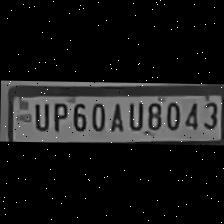0: (88, 98, 106, 131), (162, 98, 180, 130)
3: (200, 97, 218, 128)
4: (180, 98, 200, 130)
6: (68, 98, 88, 131)
8: (143, 97, 163, 130)
A: (106, 98, 124, 132)
P: (48, 98, 68, 132)
U: (124, 98, 144, 131), (29, 98, 49, 130)
